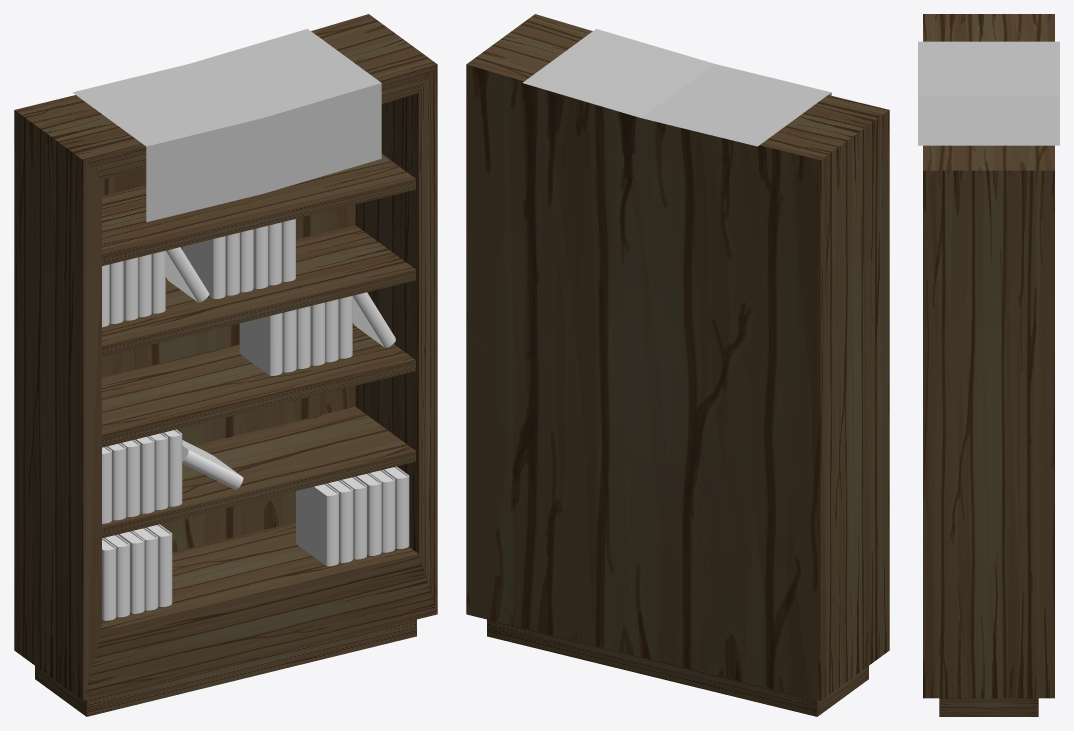
File: libreria con libri.fbx
3 views of the same model, side by side, from view 1: azimuth 30°, elevation 25°; view 2: azimuth 150°, elevation 25°; view 3: azimuth 270°, elevation 25° (orthographic). The views are drawn at different scales.
Visible parts, largest first — view 1: Cube.056; view 2: Cube.056; view 3: Cube.056.
Boxes of the visible parts, box(x1,y1,x2,y2) form: Cube.056: box(14, 14, 437, 716); Cube.056: box(466, 14, 889, 716); Cube.056: box(918, 14, 1059, 716).
Bounding box in the file's own units: 98.31 × 153 × 35.57.
